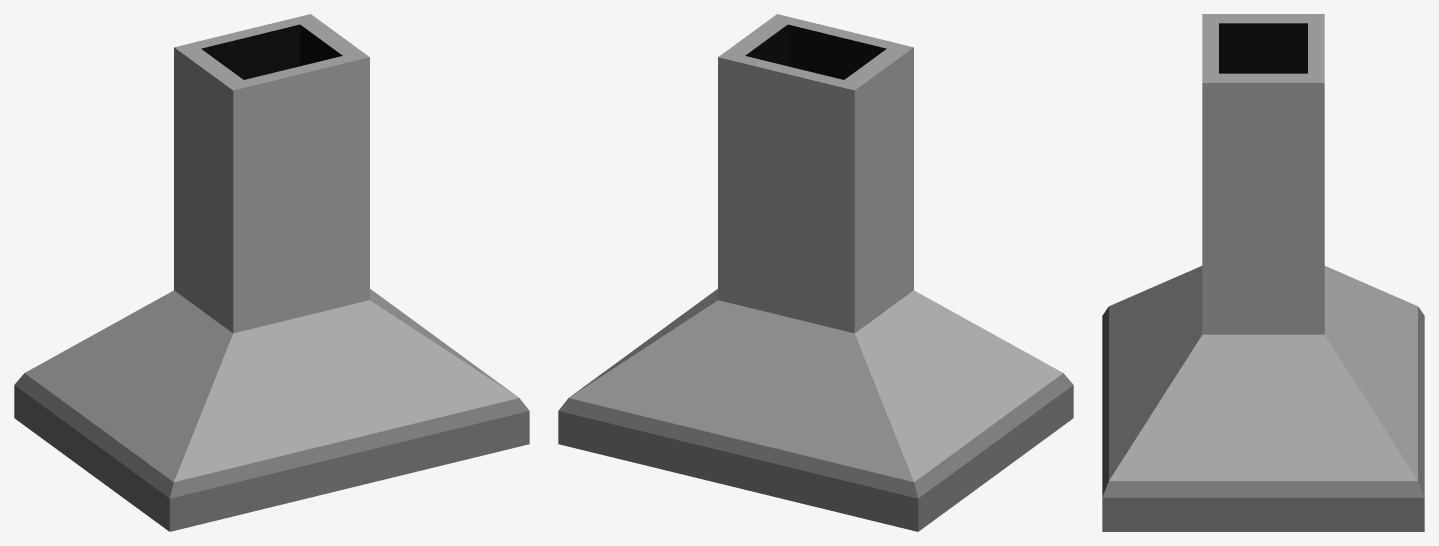
The model's file is o3_cappa_cucina.glb.
3 renders of one model, left to right at view 1: azimuth 30°, elevation 25°; view 2: azimuth 150°, elevation 25°; view 3: azimuth 270°, elevation 25°, orthographic. The views are drawn at different scales.
Visible parts, largest first — view 1: sb_modello; view 2: sb_modello; view 3: sb_modello.
Part boxes in pixels (bbox=[...]): sb_modello: bbox=[14, 14, 529, 531]; sb_modello: bbox=[558, 14, 1073, 531]; sb_modello: bbox=[1102, 14, 1424, 531].
Size of the model in its own units: 0.8945 by 0.9 by 0.6693.
Materials: 1 (1 with a texture image).
